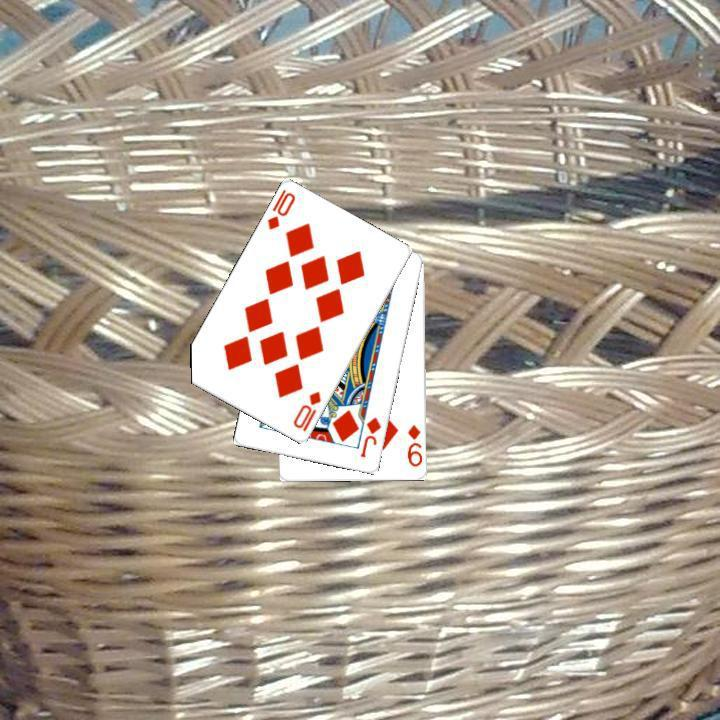10: (263, 185, 297, 233), (289, 387, 323, 434)
9: (403, 421, 423, 469)
J: (356, 413, 383, 460)
